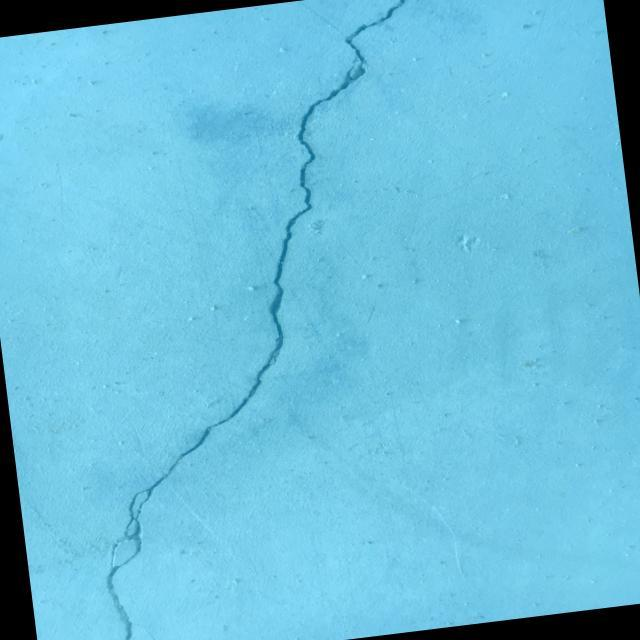crack: (38, 0, 497, 640), (135, 622, 160, 640)
